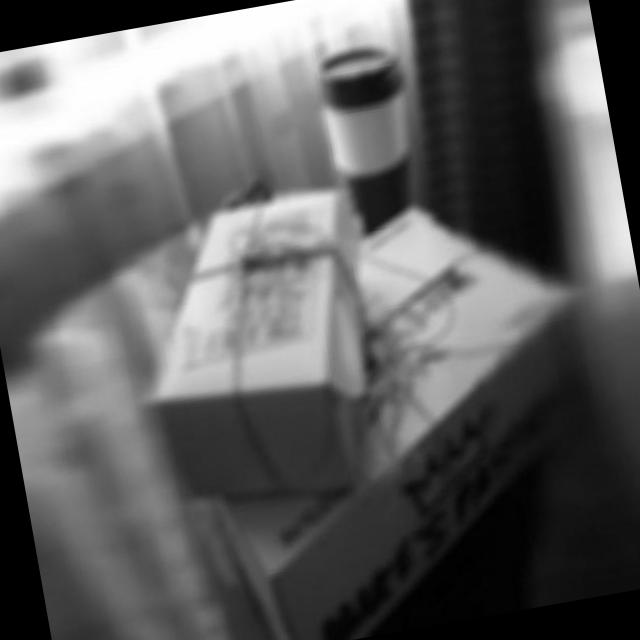box: (151, 181, 623, 640), (117, 173, 408, 508)
